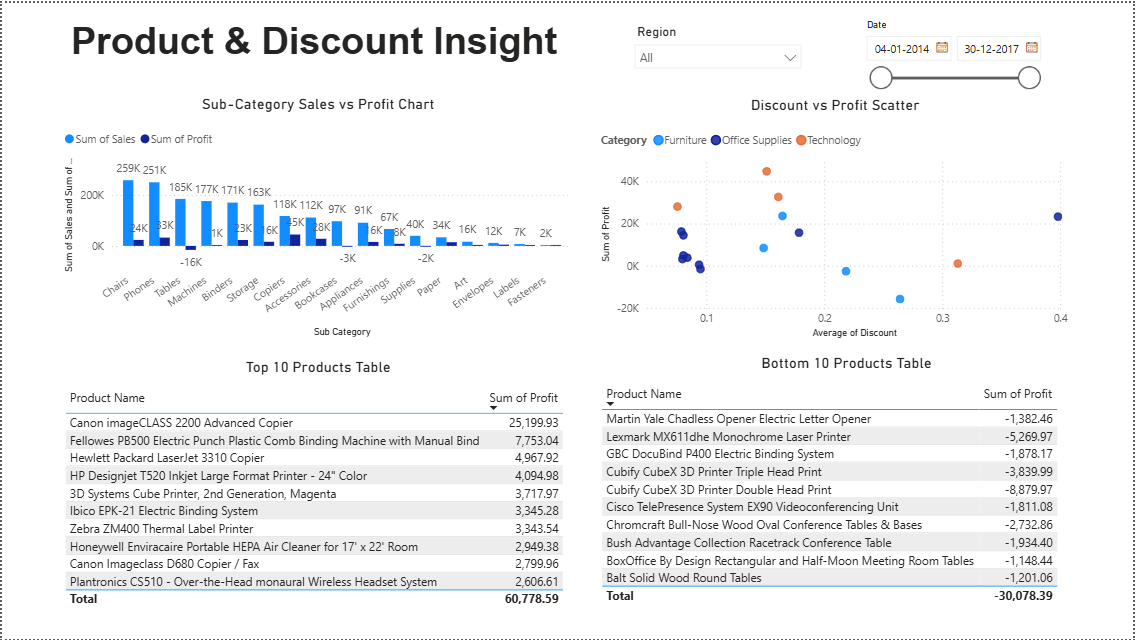

The page's visual inventory and layout, read from the dashboard file:
{"tool":"powerbi","page":{"name":"Product & Discount Insight","canvas":[1280,720],"ordinal":2},"visuals":[{"type":"textbox","box":[65.7,12.9,594.3,68.6],"z":0},{"type":"slicer","fields":{"Values":["DateTable.Date"]},"box":[965,13.3,217.4,92],"z":1000},{"type":"slicer","fields":{"Values":["Orders.Region"]},"box":[705.7,18.6,208.6,85.7],"z":2000},{"type":"clusteredColumnChart","title":"Sub-Category Sales vs Profit Chart","fields":{"Y":["Sum(Orders.Sales)","Sum(Orders.Profit)"],"Category":["Orders.Sub Category"]},"box":[65.7,104.3,584.3,278.6],"z":3000},{"type":"scatterChart","title":"Discount vs Profit Scatter","fields":{"X":["Avg(Orders.Discount)"],"Y":["Sum(Orders.Profit)"],"Category":["Orders.Sub Category"],"Series":["Orders.Category"]},"box":[672.9,105.7,540,278.6],"z":4000},{"type":"tableEx","title":"Top 10 Products Table","fields":{"Values":["Orders.Product Name","Sum(Orders.Profit)"]},"box":[65.7,401.4,584.3,288.6],"z":5000},{"type":"tableEx","title":"Bottom 10 Products Table","fields":{"Values":["Orders.Product Name","Sum(Orders.Profit)"]},"box":[672.9,397.1,565.7,292.9],"z":6000}]}

Visuals, with their boxes in screenshot pixels (x1, y1, x2, y2), scaled from the page's 1280x720 canvas onto the 1137x640 screenshot:
textbox: locate(58, 11, 586, 72)
slicer - DateTable.Date: locate(857, 12, 1050, 94)
slicer - Orders.Region: locate(627, 17, 812, 93)
"Sub-Category Sales vs Profit Chart" clusteredColumnChart: locate(58, 93, 577, 340)
"Discount vs Profit Scatter" scatterChart: locate(598, 94, 1077, 342)
"Top 10 Products Table" tableEx: locate(58, 357, 577, 613)
"Bottom 10 Products Table" tableEx: locate(598, 353, 1100, 613)
